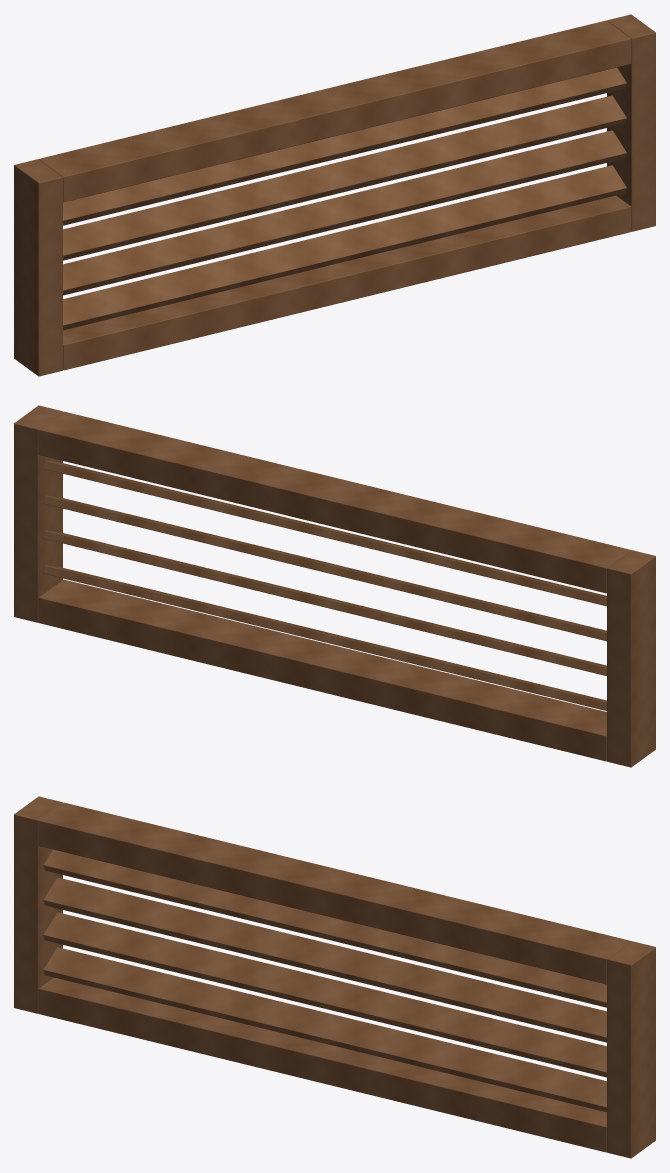
Rendered from MRP_Vent_1m.fbx.
3 renders of one model, top to bottom at view 1: azimuth 30°, elevation 25°; view 2: azimuth 150°, elevation 25°; view 3: azimuth 330°, elevation 25°, orthographic.
Visible parts, largest first — view 1: Body; view 2: Body; view 3: Body.
Part boxes in pixels (x1,y1,x2,y2): Body: (14, 14, 655, 376); Body: (14, 405, 655, 767); Body: (14, 796, 655, 1158).
Size of the model in its own units: 1 by 0.3 by 0.07.
